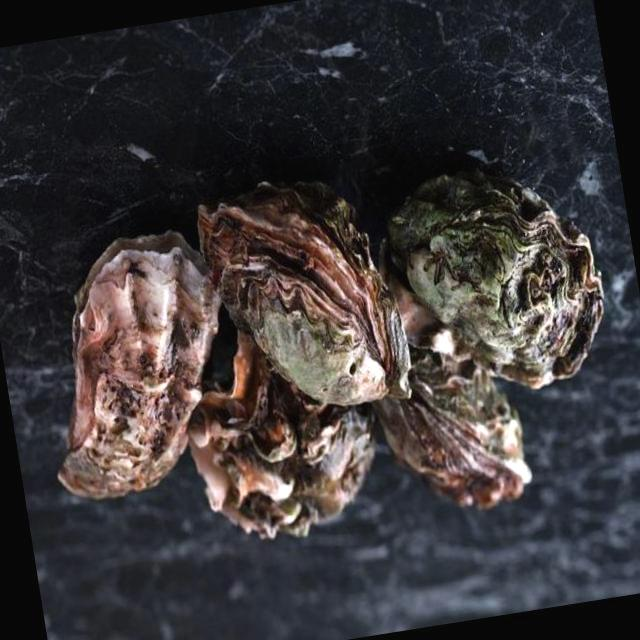Oyster-Closed: (195, 177, 411, 407), (388, 164, 604, 388), (184, 324, 376, 538), (375, 354, 529, 508)
Oyster-Open: (55, 231, 222, 497)
